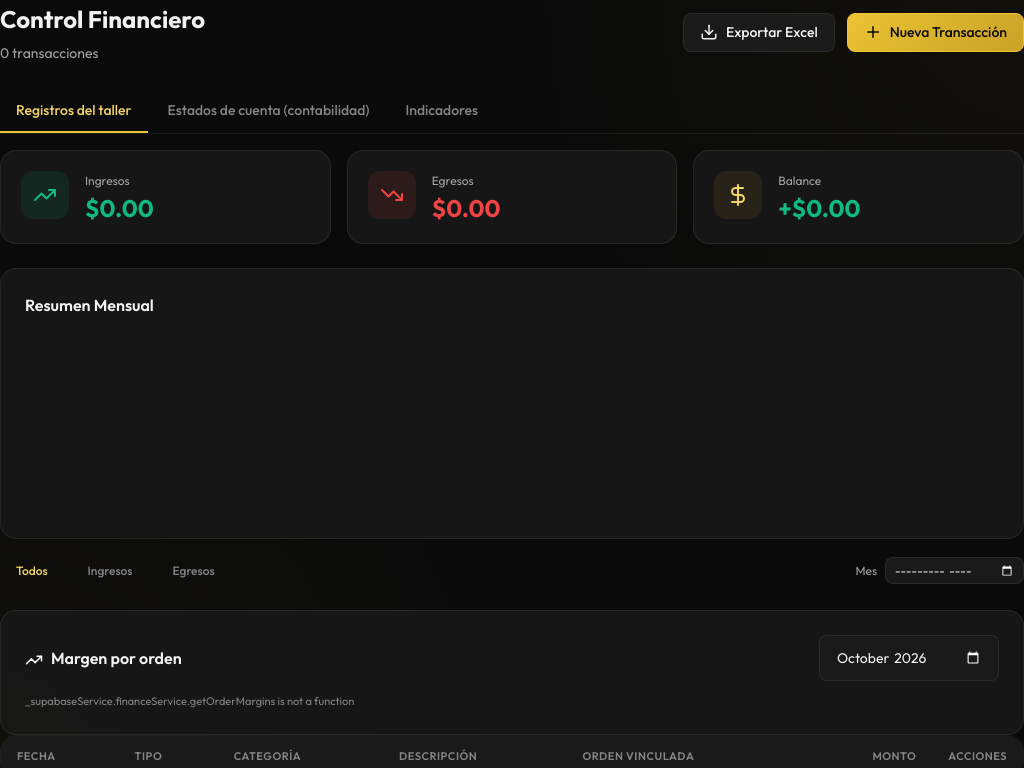
Test case: Linking a manual movement to a work order › explains a blank amount instead of doing nothing
Click the button "Nueva Transacción". click: click(935, 32)
box: [847, 13, 1023, 52]
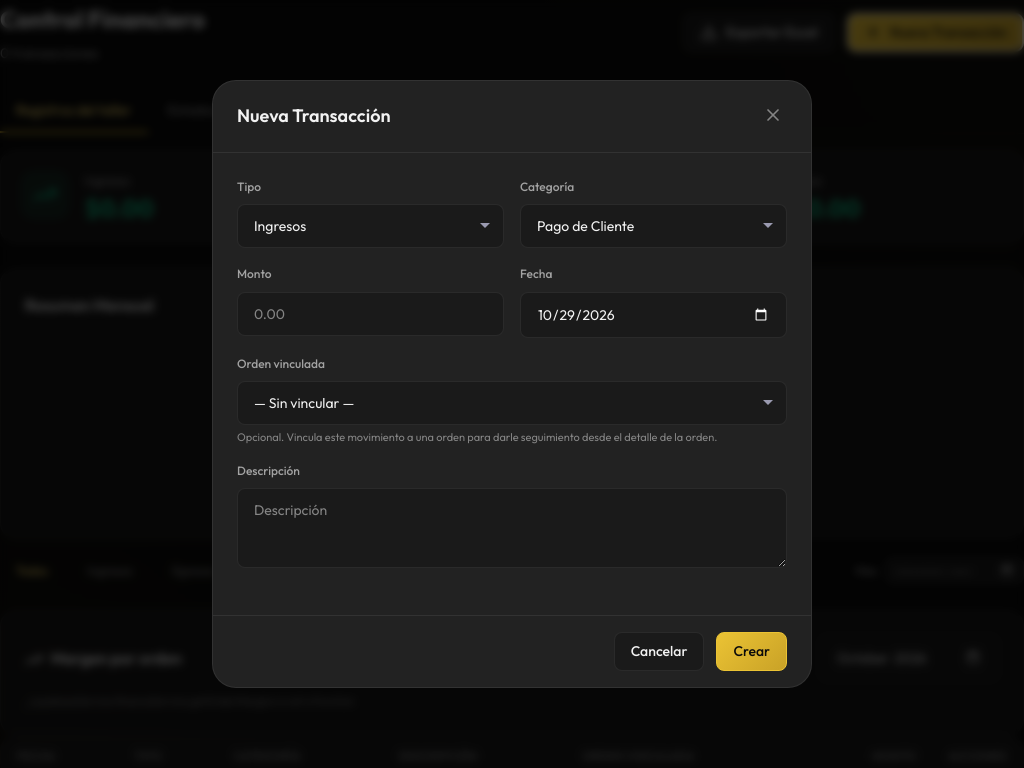
Click the button "Crear". click: click(752, 651)
box: [716, 632, 787, 671]
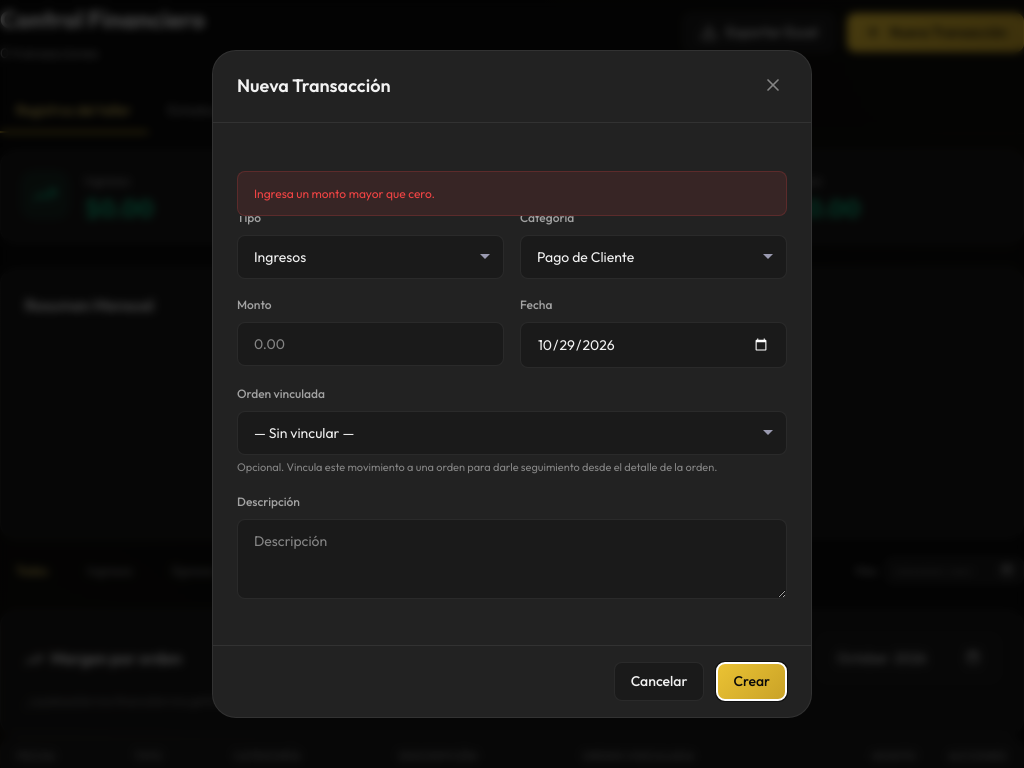
expect the message "Ingresa un monto mayor que cero." is shown: met, box [237, 171, 787, 216]
expect the message shows "monto": met, box [254, 186, 435, 201]
